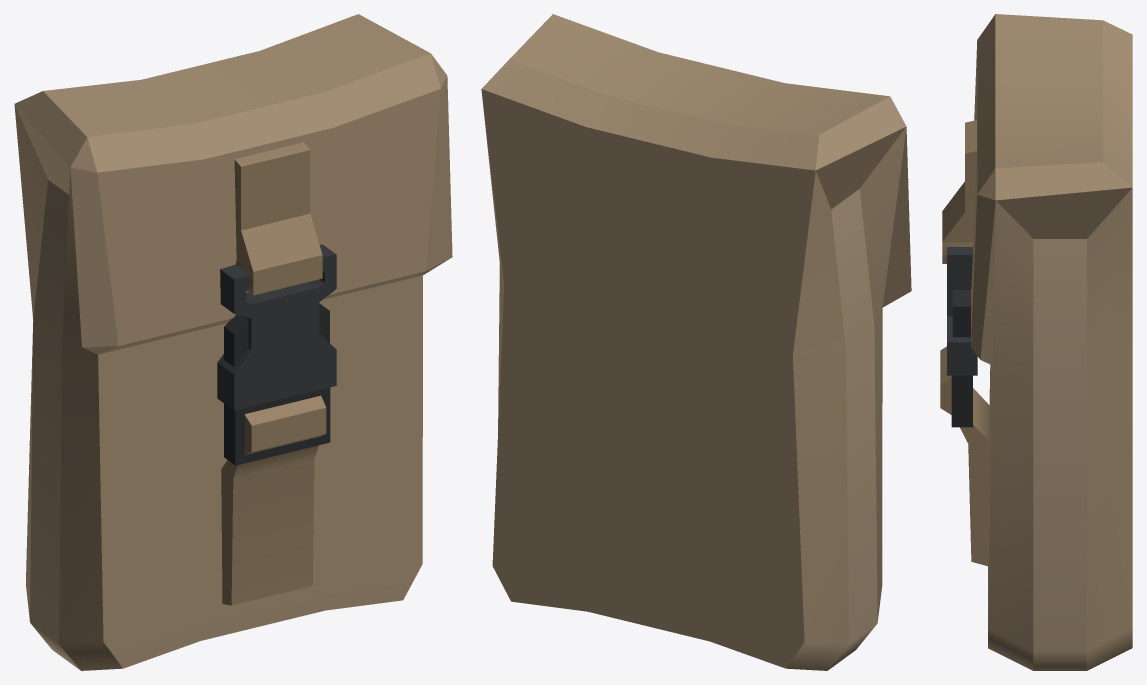
The model's file is SM_Item_Pouch_02.fbx.
The picture shows the model from 3 angles, left to right: view 1: azimuth 30°, elevation 25°; view 2: azimuth 150°, elevation 25°; view 3: azimuth 270°, elevation 25°; orthographic projection. The views are drawn at different scales.
Visible parts, largest first — view 1: SM_Item_Pouch_02; view 2: SM_Item_Pouch_02; view 3: SM_Item_Pouch_02.
Part boxes in pixels (x1=…): SM_Item_Pouch_02: x1=14, y1=14, x2=452, y2=670; SM_Item_Pouch_02: x1=481, y1=14, x2=911, y2=670; SM_Item_Pouch_02: x1=940, y1=14, x2=1132, y2=670.
Bounding box in the file's own units: 13.77 × 19.28 × 6.6.
